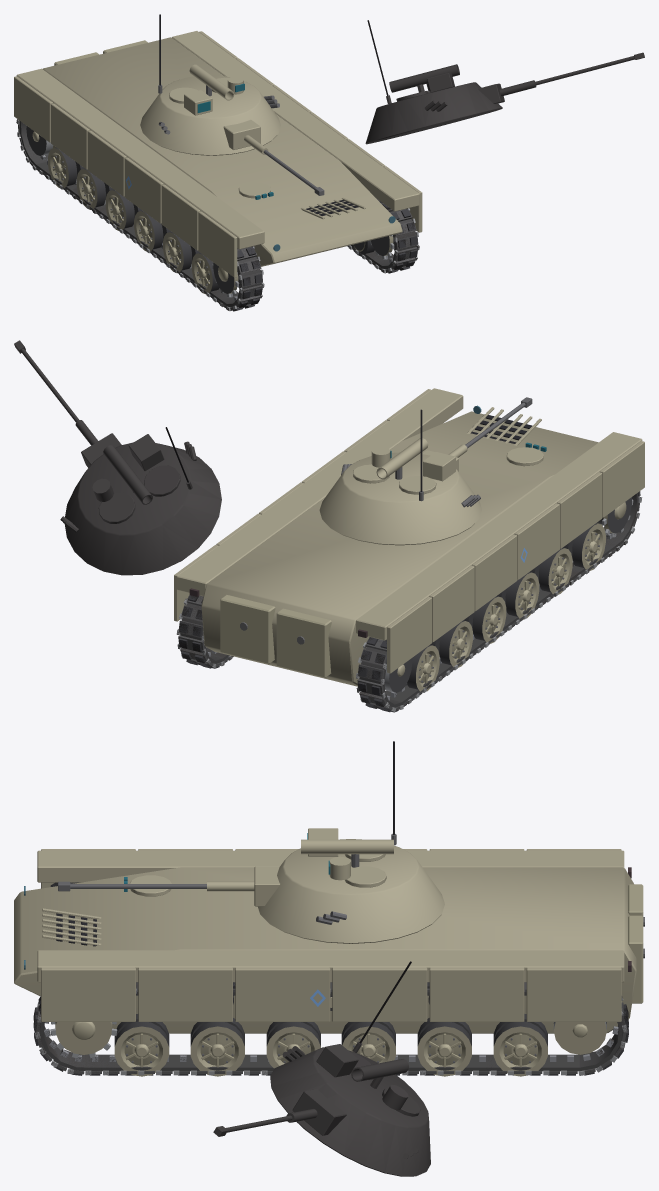
File: apc__bmp_2_btr_80_captured.glb
The picture shows the model from 3 angles, top to bottom: view 1: azimuth 30°, elevation 25°; view 2: azimuth 150°, elevation 25°; view 3: azimuth 270°, elevation 25°; orthographic projection. The views are drawn at different scales.
Parts seen in each view (by area): view 1: Hull_Mesh, Wreck, Turret_Mesh, Track_L_Mesh, Track_R_Mesh, Gun_Mesh, Wheel_L1_Mesh, Wheel_L0_Mesh, Wheel_L3_Mesh, Wheel_L4_Mesh, Wheel_L2_Mesh, Wheel_L5_Mesh (+2 smaller); view 2: Hull_Mesh, Wreck, Turret_Mesh, Track_L_Mesh, Track_R_Mesh, Wheel_L2_Mesh, Wheel_L5_Mesh, Wheel_L4_Mesh, Wheel_L1_Mesh, Wheel_L3_Mesh, Wheel_L0_Mesh, Sprocket_L_Mesh (+2 smaller); view 3: Hull_Mesh, Wreck, Turret_Mesh, Track_R_Mesh, Wheel_R5_Mesh, Wheel_R0_Mesh, Wheel_R1_Mesh, Wheel_R4_Mesh, Gun_Mesh, Sprocket_R_Mesh, Wheel_R3_Mesh, Wheel_R2_Mesh (+1 smaller).
Boxes of the visible parts, x1,y1,x2,y2 form: Hull_Mesh: [14, 31, 422, 277]; Wreck: [17, 20, 644, 311]; Turret_Mesh: [140, 14, 280, 155]; Track_L_Mesh: [16, 119, 264, 311]; Track_R_Mesh: [347, 198, 419, 273]; Gun_Mesh: [223, 119, 324, 195]; Wheel_L1_Mesh: [76, 168, 113, 209]; Wheel_L0_Mesh: [48, 147, 84, 188]; Wheel_L3_Mesh: [134, 210, 170, 251]; Wheel_L4_Mesh: [163, 231, 199, 272]; Wheel_L2_Mesh: [105, 190, 141, 230]; Wheel_L5_Mesh: [191, 253, 219, 294]; Hull_Mesh: [174, 388, 644, 686]; Wreck: [14, 340, 640, 710]; Turret_Mesh: [319, 409, 481, 545]; Track_L_Mesh: [356, 491, 642, 712]; Track_R_Mesh: [176, 595, 233, 668]; Wheel_L2_Mesh: [463, 596, 506, 643]; Wheel_L5_Mesh: [563, 523, 605, 570]; Wheel_L4_Mesh: [530, 547, 572, 594]; Wheel_L1_Mesh: [430, 620, 472, 667]; Wheel_L3_Mesh: [497, 572, 539, 619]; Wheel_L0_Mesh: [407, 645, 439, 691]; Sprocket_L_Mesh: [596, 497, 633, 537]; Hull_Mesh: [14, 849, 644, 1033]; Wreck: [33, 882, 628, 1176]; Turret_Mesh: [258, 741, 444, 943]; Track_R_Mesh: [33, 982, 628, 1075]; Wheel_R5_Mesh: [114, 1014, 169, 1076]; Wheel_R0_Mesh: [493, 1014, 547, 1076]; Wheel_R1_Mesh: [417, 1018, 471, 1076]; Wheel_R4_Mesh: [190, 1018, 244, 1076]; Gun_Mesh: [58, 866, 279, 906]; Sprocket_R_Mesh: [50, 1022, 117, 1058]; Wheel_R3_Mesh: [266, 1022, 320, 1068]; Wheel_R2_Mesh: [341, 1022, 395, 1063].
Size of what is drawn, in the model's own units: 8.14 by 3.17 by 7.06.
